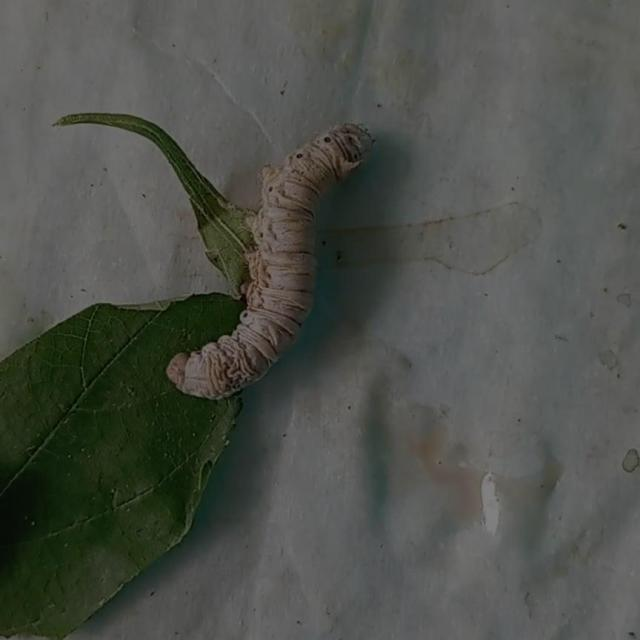Grasserie: (164, 102, 380, 405)
